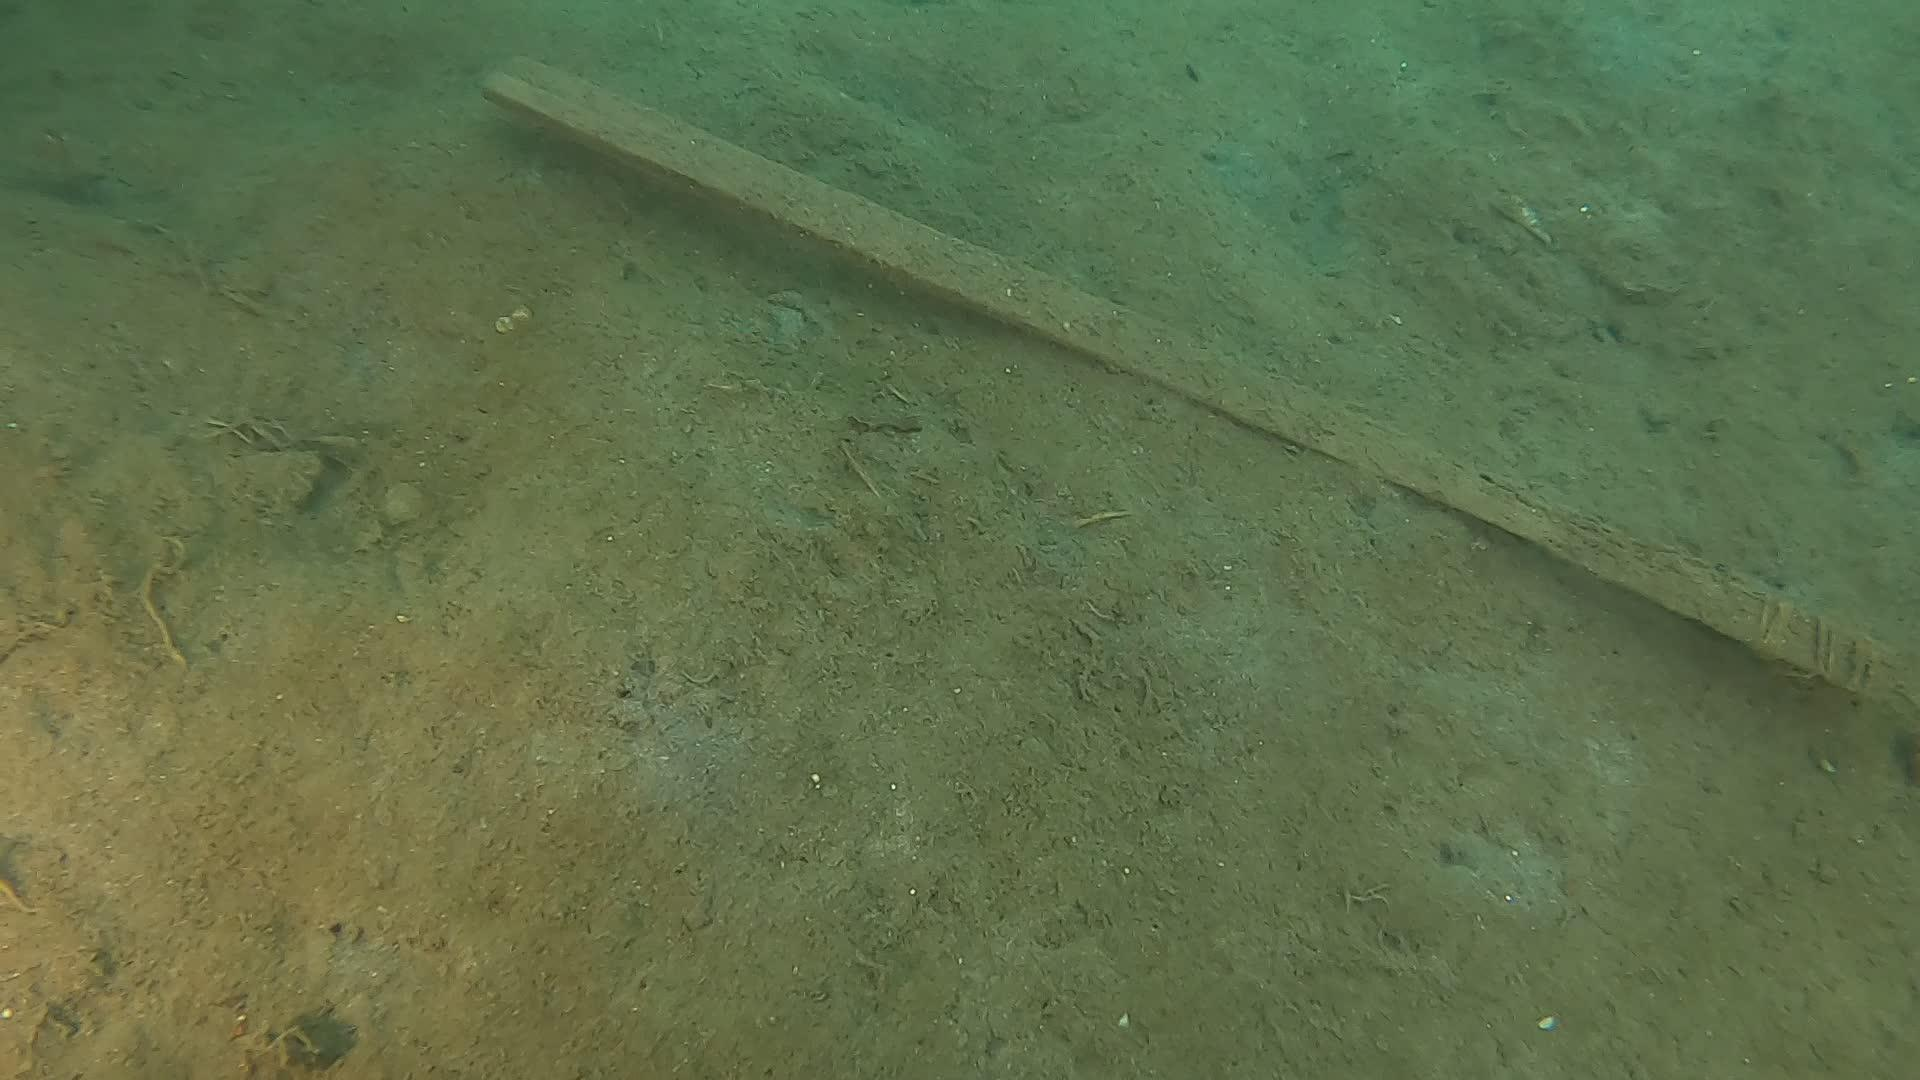wood: (477, 51, 1887, 695)
